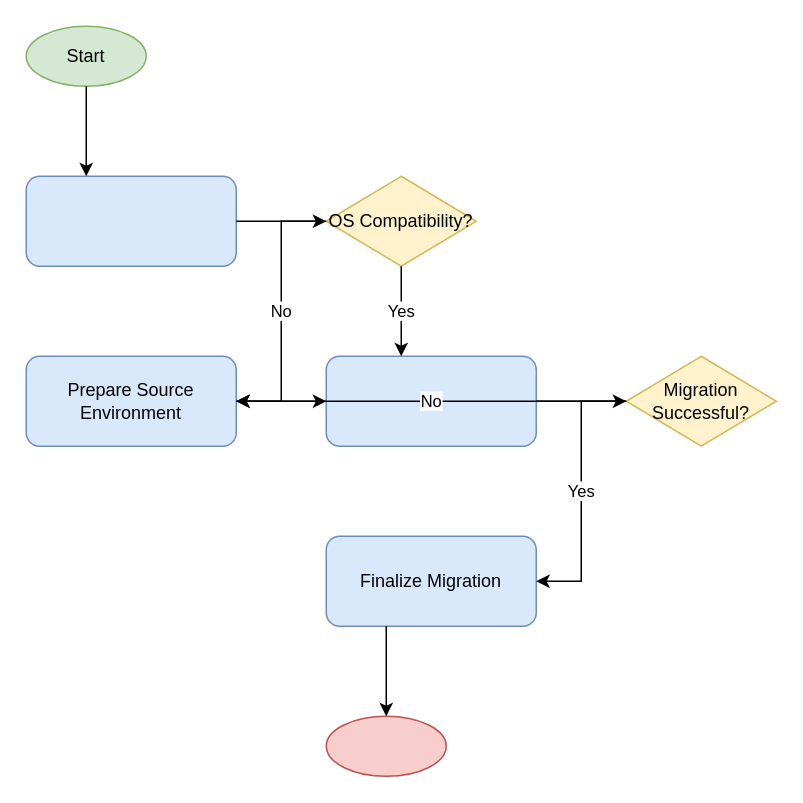
Image size: 803x803. Some labels were removed from this diagram. Each missing label, with the centre of its shape:
"End" belongs at point (385, 745).
"Execute Migration" belongs at point (430, 400).
"Initialize Migration" belongs at point (130, 220).
